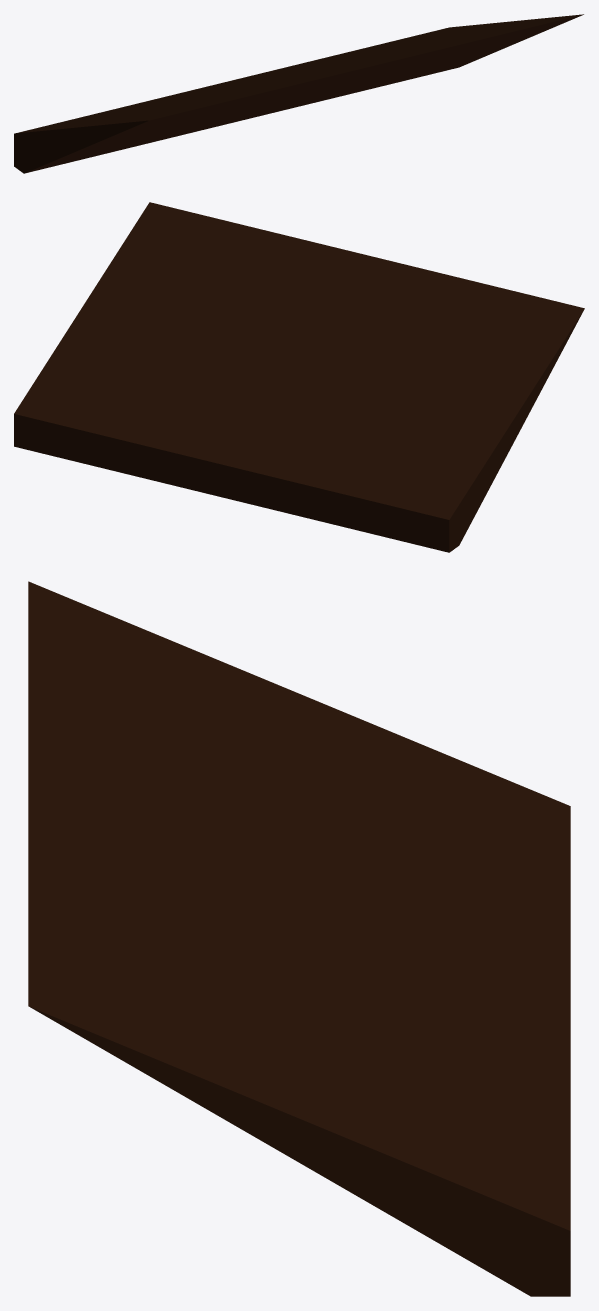
The model's file is Roof2.FBX.
3 views of the same model, one above another, from view 1: azimuth 30°, elevation 25°; view 2: azimuth 150°, elevation 25°; view 3: azimuth 270°, elevation 25° (orthographic). The views are drawn at different scales.
Parts seen in each view (by area): view 1: Roof2PerfectFit; view 2: Roof2PerfectFit; view 3: Roof2PerfectFit.
Boxes of the visible parts, x1,y1,x2,y2 form: Roof2PerfectFit: (14,14,583,173); Roof2PerfectFit: (14,202,584,552); Roof2PerfectFit: (28,581,570,1296).
Bounding box in the file's own units: 3.8 × 1.21 × 2.05.
